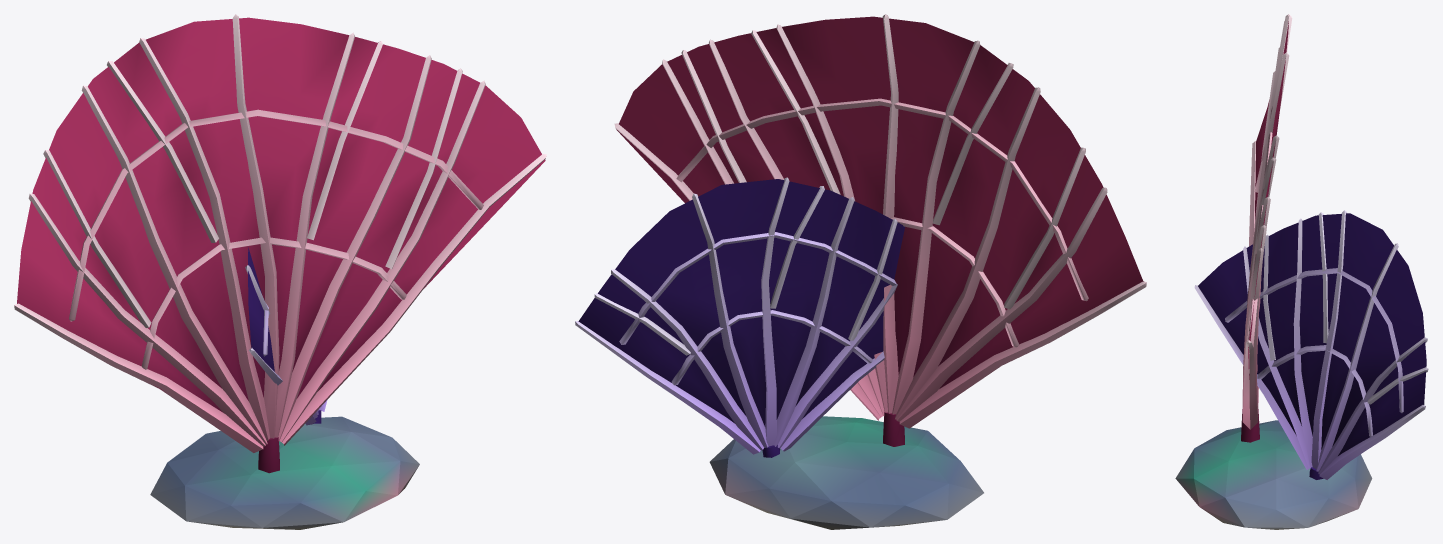
File: sea_fan.glb
3 renders of one model, left to right at view 1: azimuth 30°, elevation 25°; view 2: azimuth 150°, elevation 25°; view 3: azimuth 270°, elevation 25°, orthographic. The views are drawn at different scales.
Visible parts, largest first — view 1: sea_fan; view 2: sea_fan; view 3: sea_fan.
Part boxes in pixels (box(x1,y1,x2,y2)): sea_fan: box(14, 14, 546, 529); sea_fan: box(575, 14, 1146, 529); sea_fan: box(1175, 14, 1428, 529).
Bounding box in the file's own units: 2.07 × 1.8 × 0.9923.
